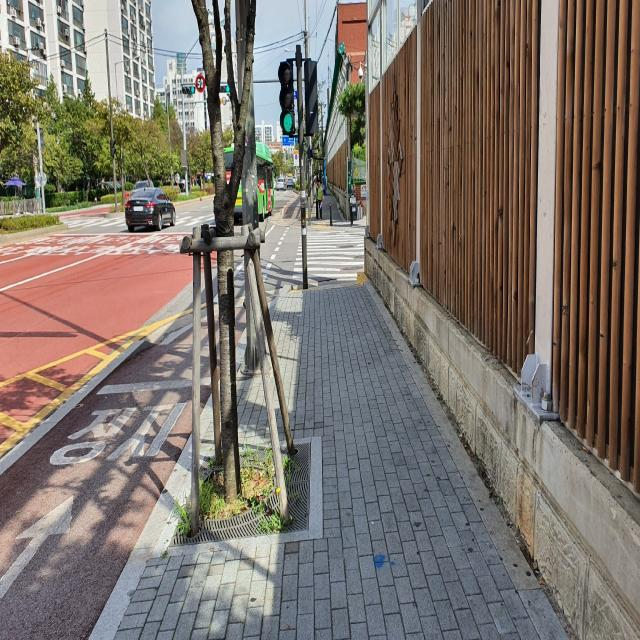횡단보도: (292, 230, 365, 282)
